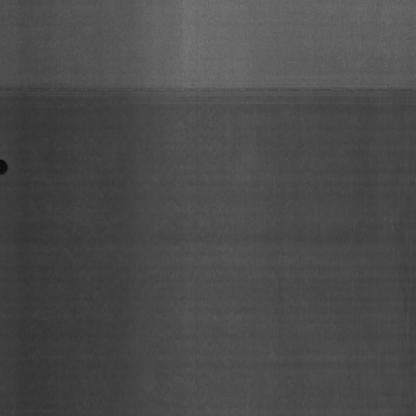punching_hole: (0, 154, 9, 176)
welding_line: (0, 76, 414, 103)
